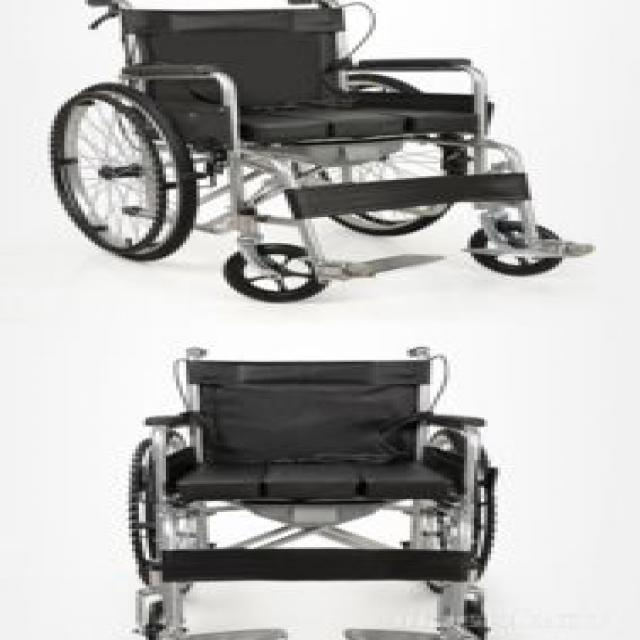wheelchair: (34, 2, 636, 312), (84, 336, 538, 638)
